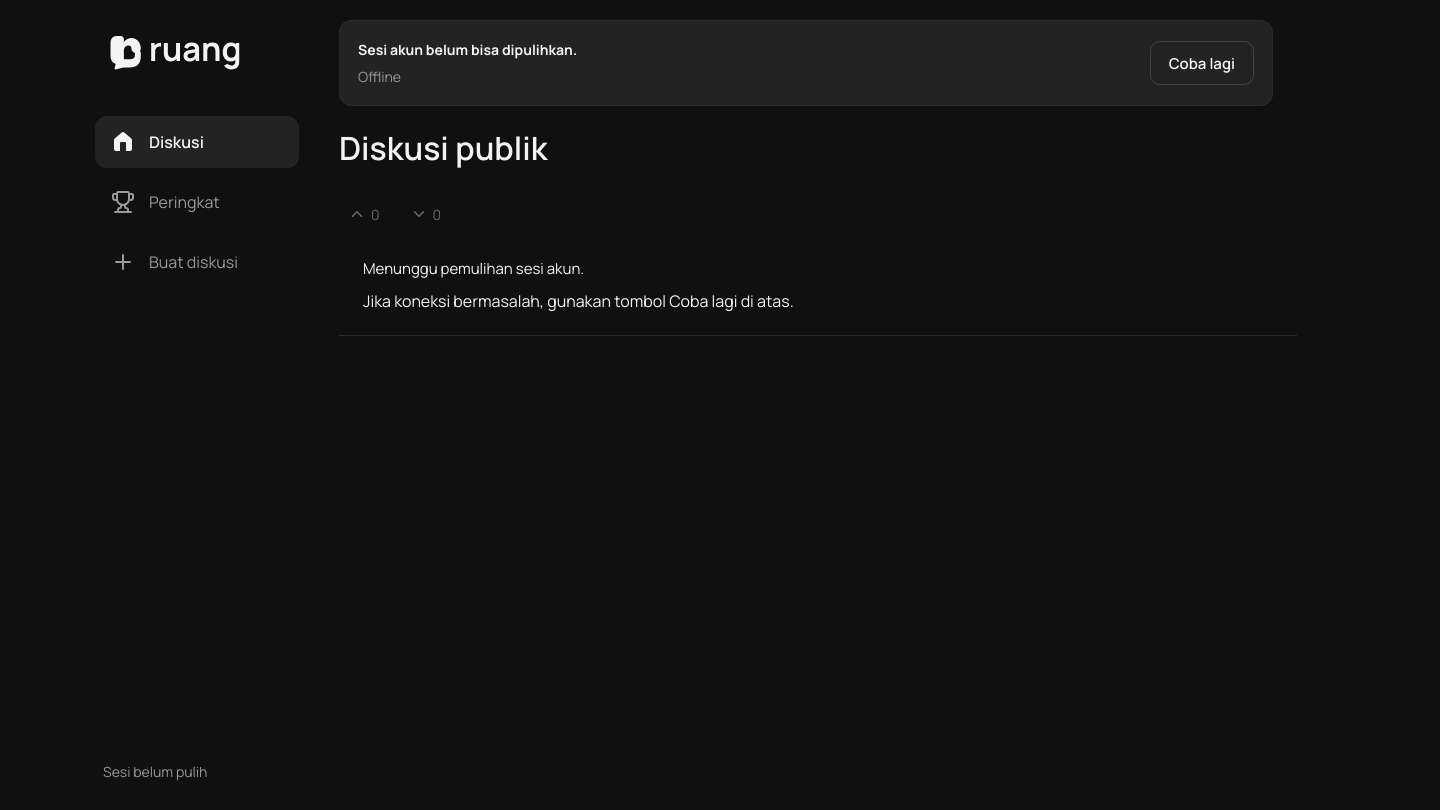
Scenario: offers public-page session retry and does not treat unresolved authentication as a guest
Check: the button named "Up-vote diskusi" is disabled, box [339,192,388,236]
Click the button with aria-label "Coba lagi sesi".
click(1202, 63)  # box [1150,41,1254,85]
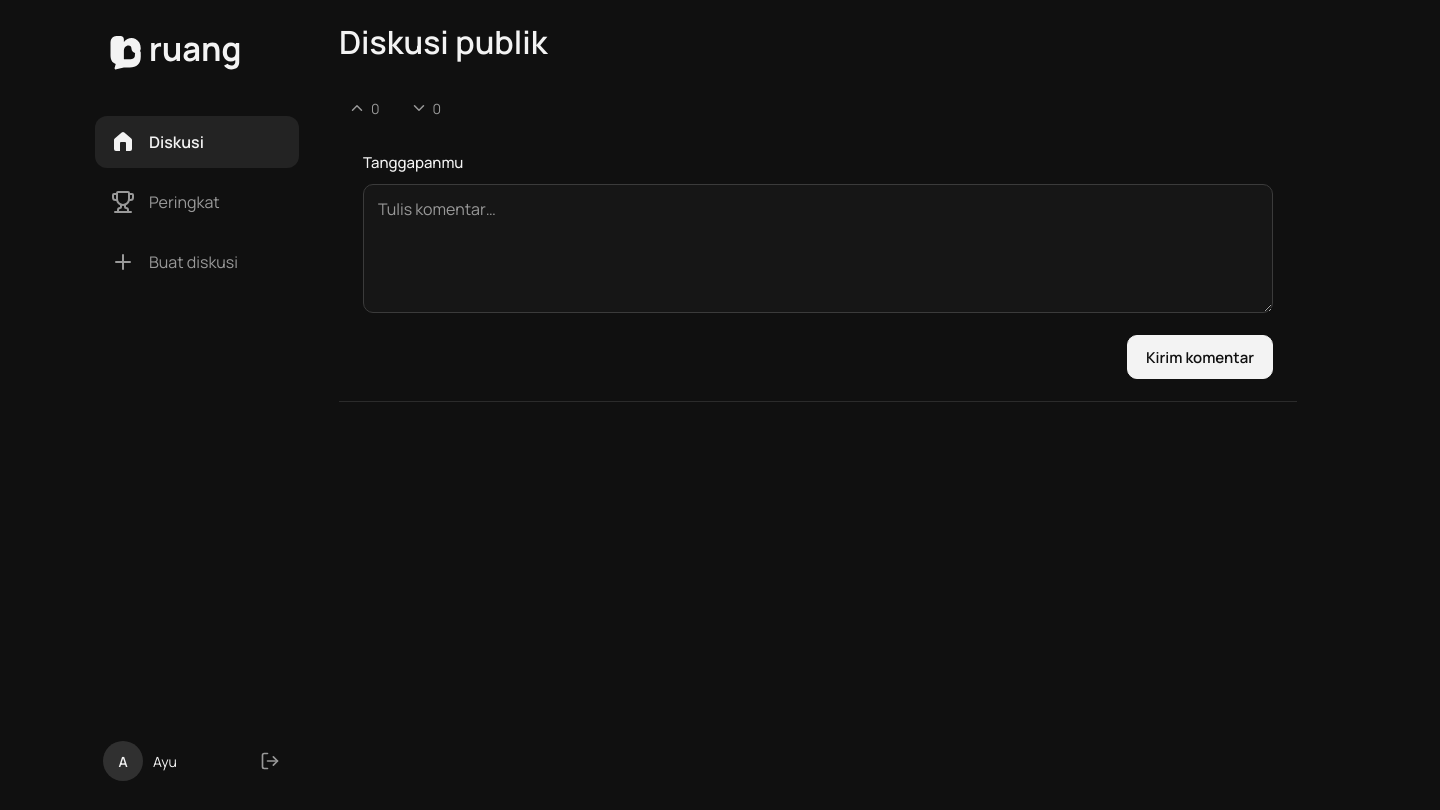
Check: the text "Ayu" is shown, box [153,750,177,772]
Check: the button named "Up-vote diskusi" is enabled, box [339,86,388,130]
Check: the text box labelled "Tanggapanmu" is shown, box [363,184,1273,313]
